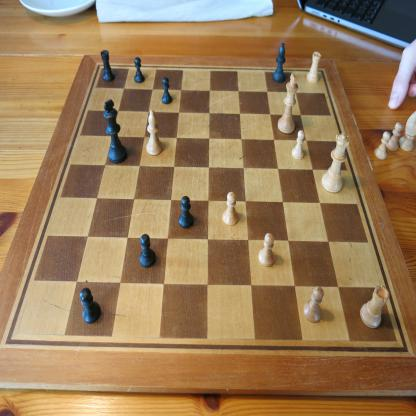black-bishop: (272, 43, 286, 83)
black-king: (103, 98, 128, 164)
black-pawn: (80, 287, 101, 324), (139, 234, 156, 268), (179, 195, 194, 228), (161, 76, 173, 105), (134, 57, 145, 84)
black-rook: (100, 49, 115, 82)
white-bishop: (146, 109, 163, 156)
white-king: (278, 72, 298, 134)
white-knight: (398, 111, 415, 153)
white-pawn: (303, 286, 324, 323), (258, 232, 275, 268), (222, 191, 238, 226), (373, 131, 391, 161), (386, 122, 403, 152), (291, 130, 306, 160)
white-queen: (321, 132, 350, 194)
white-rook: (359, 284, 390, 330), (306, 51, 322, 84)
